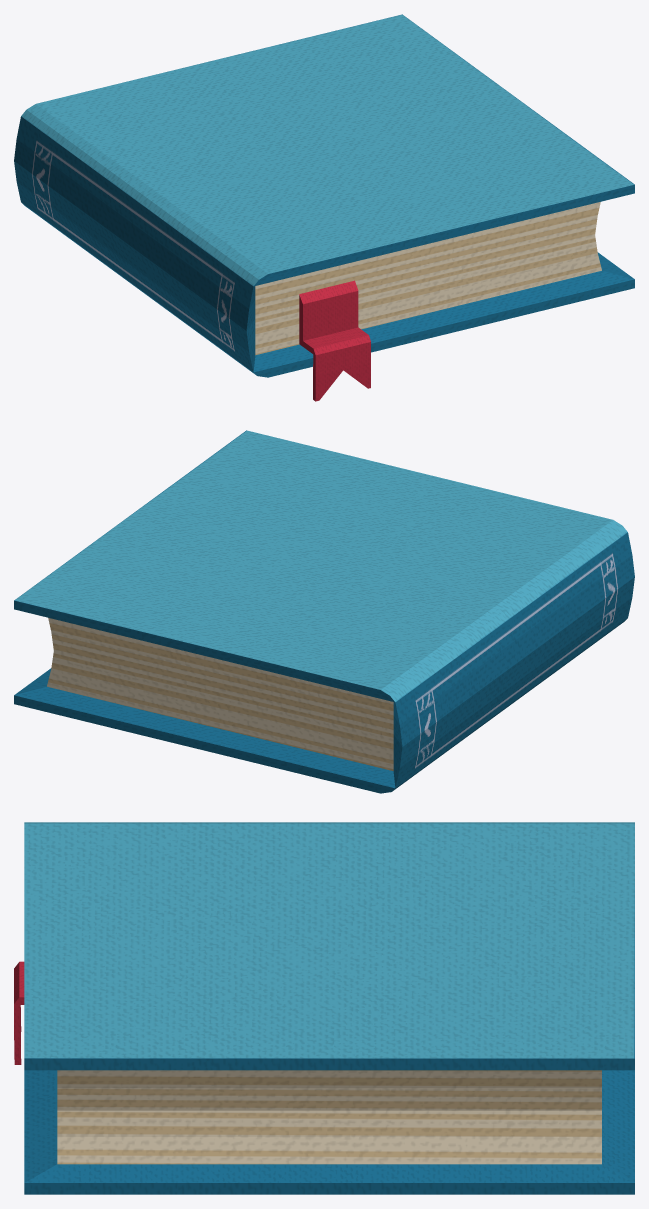
The model's file is book_04.fbx.
The picture shows the model from 3 angles, top to bottom: view 1: azimuth 30°, elevation 25°; view 2: azimuth 150°, elevation 25°; view 3: azimuth 270°, elevation 25°; orthographic projection. The views are drawn at different scales.
Visible parts, largest first — view 1: Book_04; view 2: Book_04; view 3: Book_04.
Boxes of the visible parts, x1,y1,x2,y2 form: Book_04: (14, 14, 634, 401); Book_04: (14, 430, 634, 793); Book_04: (14, 822, 634, 1194).
Size of the model in its own units: 247 by 82.38 by 261.
